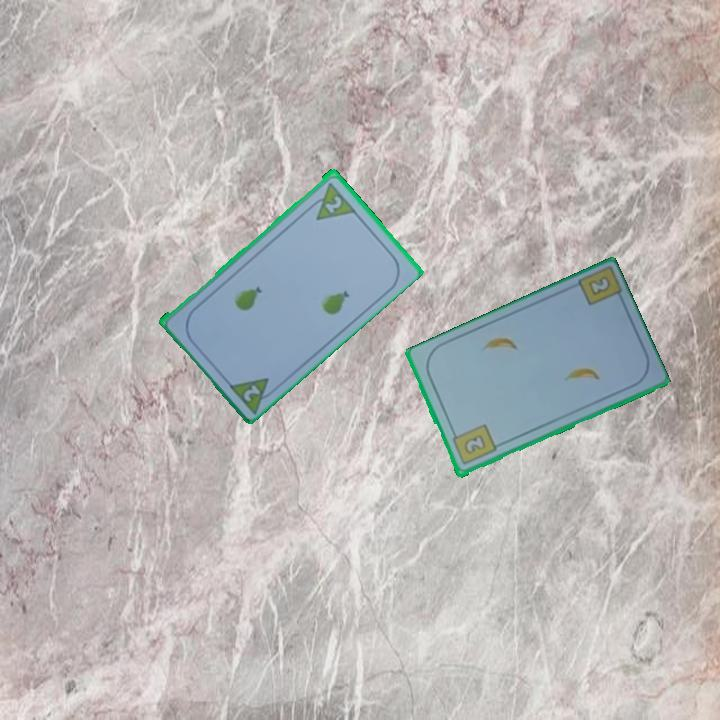2b: (448, 421, 499, 468), (585, 273, 613, 299)
2p: (321, 192, 345, 216), (240, 381, 263, 404)
